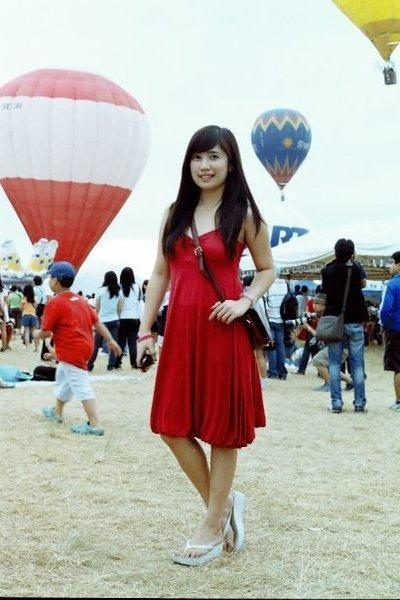bag: (232, 308, 275, 371)
dress: (150, 228, 265, 452)
shoe: (173, 499, 261, 563)
